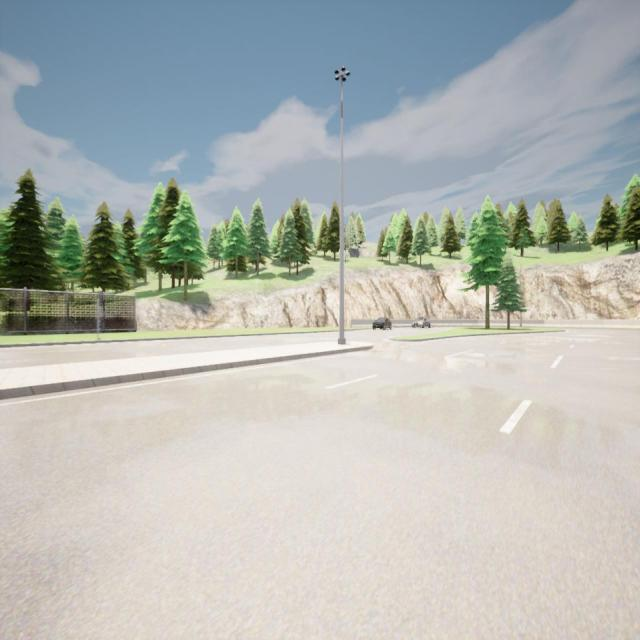Vehicle: (412, 315, 431, 331), (372, 316, 393, 329)
